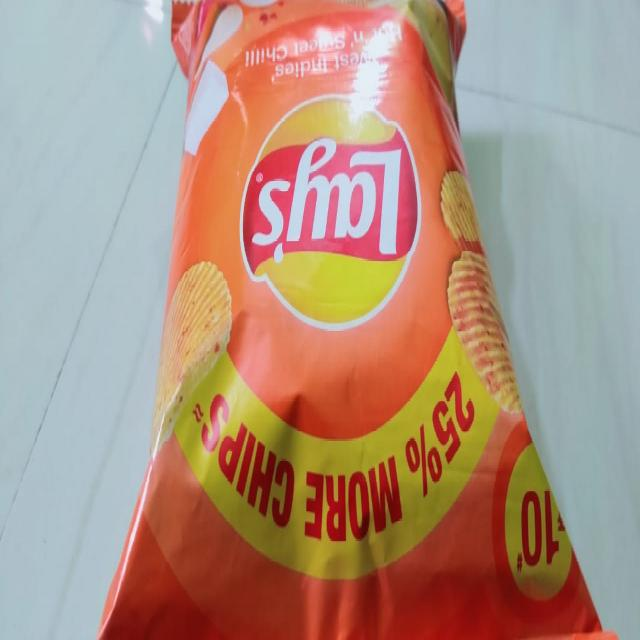lays: (98, 0, 620, 640)
